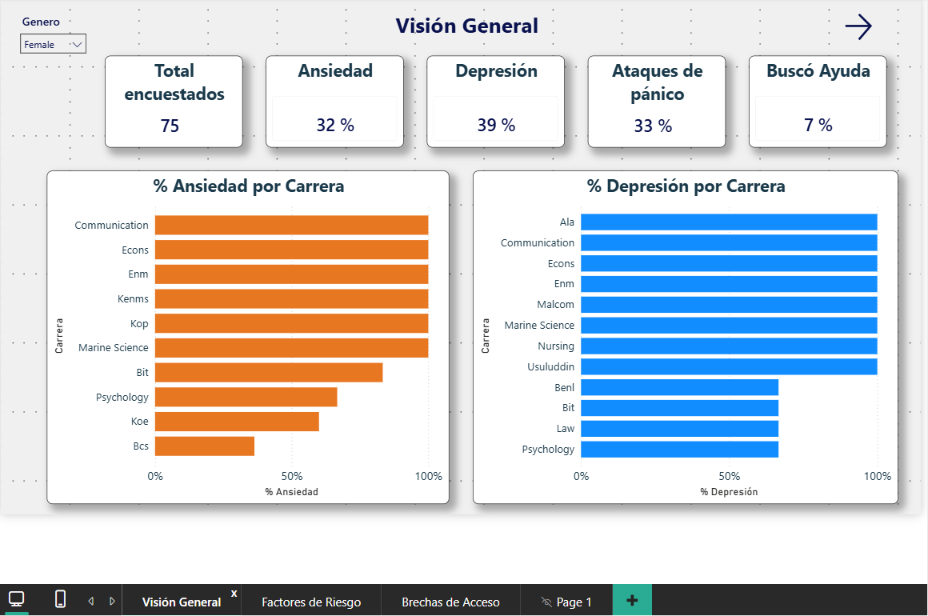

What the dashboard file says about the page in this screenshot:
{"tool":"powerbi","page":{"name":"Visión General","canvas":[1280,720],"ordinal":0},"visuals":[{"type":"cardVisual","title":"Ansiedad","fields":{"Data":["Datos Limpios.% Ansiedad"]},"box":[368,80,192,128],"z":0},{"type":"cardVisual","title":"Depresión","fields":{"Data":["Datos Limpios.% Depresión"]},"box":[592,80,192,128],"z":1000},{"type":"cardVisual","title":"Ataques de pánico","fields":{"Data":["Datos Limpios.% Ataques de pánico"]},"box":[816,80,192,128],"z":2000},{"type":"cardVisual","title":"Buscó Ayuda","fields":{"Data":["Datos Limpios.% Buscó ayuda"]},"box":[1040,80,192,128],"z":3000},{"type":"cardVisual","title":"Total encuestados","fields":{"Data":["Datos Limpios.Total encuestados"]},"box":[144,80,192,128],"z":4000},{"type":"barChart","title":"% Ansiedad por Carrera","fields":{"Category":["Datos Limpios.Carrera"],"Y":["Datos Limpios.% Ansiedad"]},"box":[64,240,560,464],"z":5000},{"type":"barChart","title":"% Depresión por Carrera","fields":{"Category":["Datos Limpios.Carrera"],"Y":["Datos Limpios.% Depresión"]},"box":[656,240,592,464],"z":6000},{"type":"slicer","fields":{"Values":["Datos Limpios.Genero"]},"box":[16,16,112,64],"z":7000},{"type":"textbox","title":"Visión General","box":[528,16,240,48],"z":8000},{"type":"actionButton","box":[1168,16,48,48],"z":9000}]}

Visuals, with their boxes in screenshot pixels (x1, y1, x2, y2):
"Ansiedad" cardVisual: [266, 137, 403, 228]
"Depresión" cardVisual: [426, 137, 563, 228]
"Ataques de pánico" cardVisual: [586, 137, 723, 228]
"Buscó Ayuda" cardVisual: [746, 137, 883, 228]
"Total encuestados" cardVisual: [105, 137, 243, 228]
"% Ansiedad por Carrera" barChart: [48, 251, 449, 583]
"% Depresión por Carrera" barChart: [471, 251, 895, 583]
slicer - Datos Limpios.Genero: [14, 91, 94, 137]
"Visión General" textbox: [380, 91, 552, 126]
actionButton: [838, 91, 872, 126]
